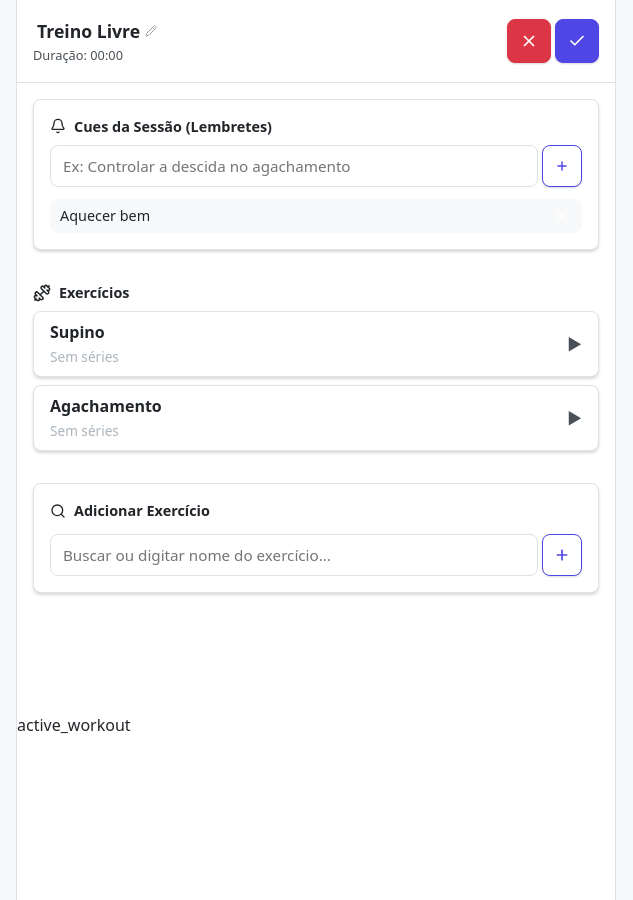
Test: ActiveWorkoutView — detalhe do exercício › abre a tela do exercício ao tocar no card da lista
Click the button "Supino Sem séries ▶" at (77,332), box [33,311,599,377]
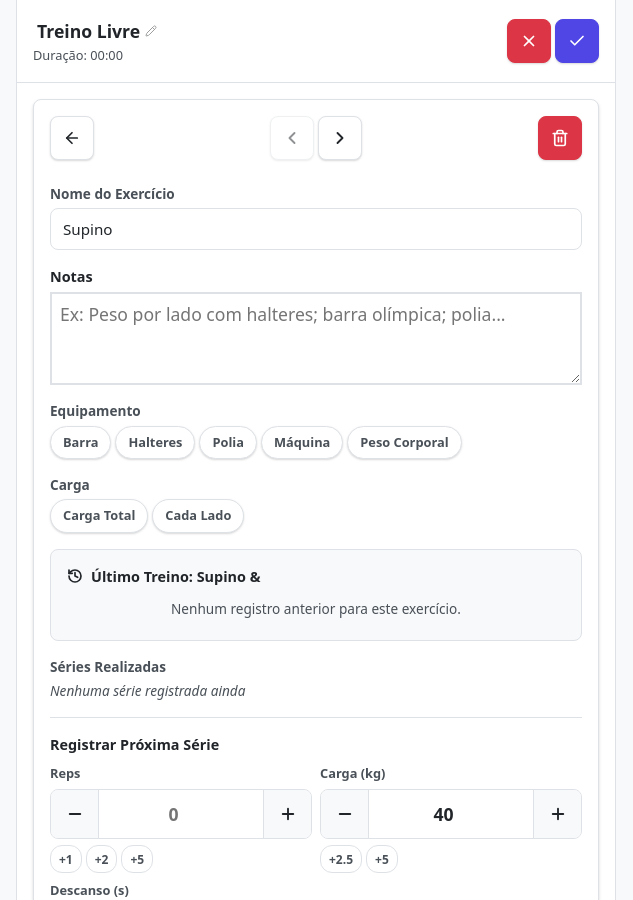
Now the field showing "Supino" is shown, box [50,208,582,250]
Now the button named "Voltar para a lista de exercícios" is shown, box [50,116,94,160]
Now the text "Cues da Sessão (Lembretes)" is gone
